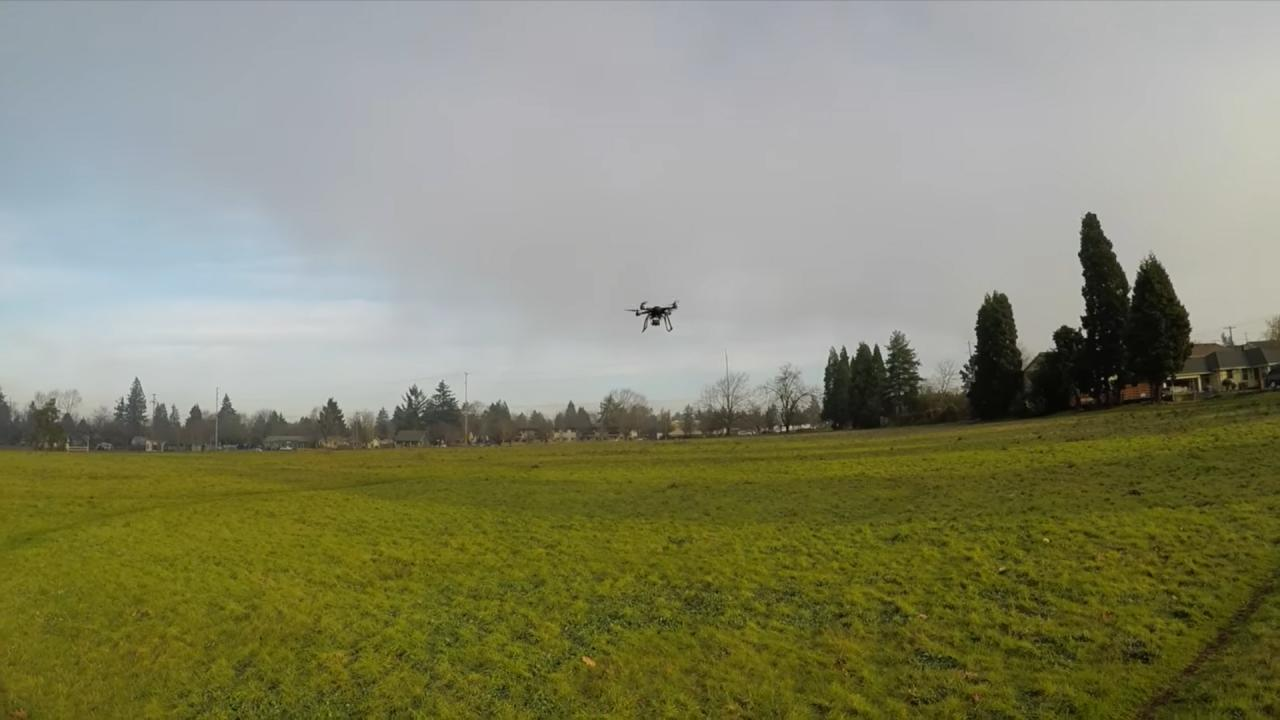Drone: (619, 292, 686, 340)
